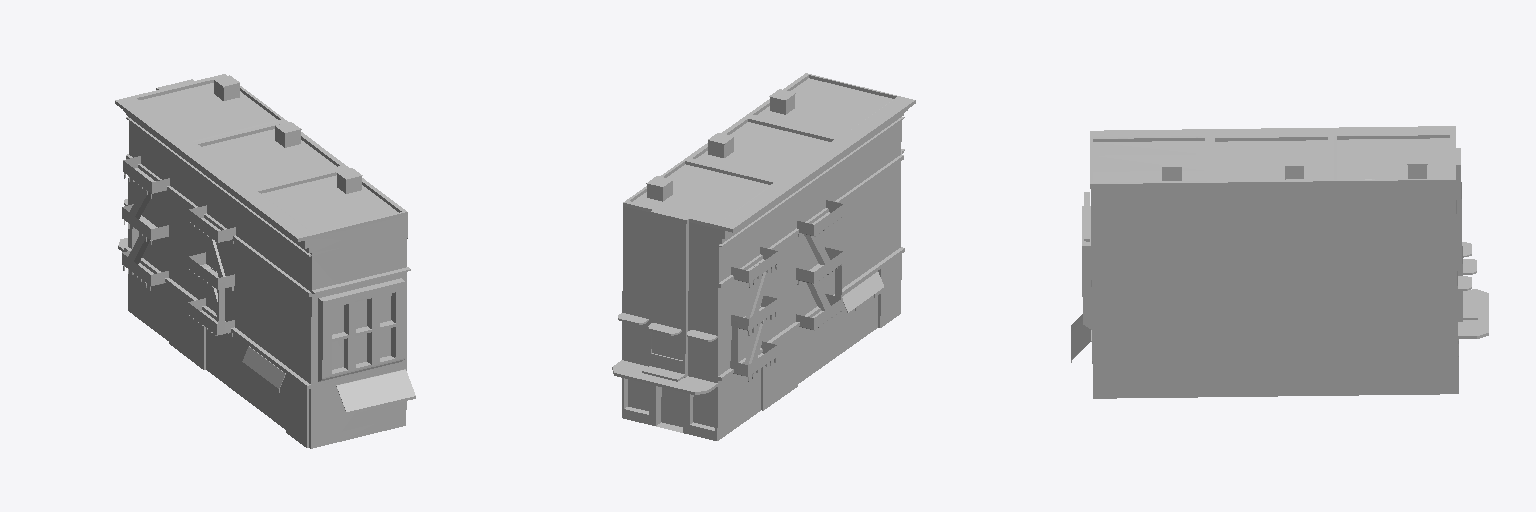
The model's file is TB1tmV2SXXXXXXmXXXXXXXXXXXX.obj.
3 renders of one model, left to right at view 1: azimuth 30°, elevation 25°; view 2: azimuth 150°, elevation 25°; view 3: azimuth 270°, elevation 25°, orthographic.
Visible parts, largest first — view 1: NY3:NY11Mtl_NY110001_GEP, NY3:NY11Mtl_NY110002_GEP, NY3:NY11Mtl_NY110003_GEP, NY3:NY11Mtl_NY110004_GEP; view 2: NY3:NY11Mtl_NY110001_GEP, NY3:NY11Mtl_NY110003_GEP, NY3:NY11Mtl_NY110002_GEP, NY3:NY11Mtl_NY110004_GEP; view 3: NY3:NY11Mtl_NY110001_GEP, NY3:NY11Mtl_NY110004_GEP.
Part boxes in pixels (x1,y1,x2,y2): NY3:NY11Mtl_NY110001_GEP: (115, 74, 410, 448); NY3:NY11Mtl_NY110002_GEP: (188, 205, 235, 336); NY3:NY11Mtl_NY110003_GEP: (122, 156, 169, 290); NY3:NY11Mtl_NY110004_GEP: (242, 346, 415, 411); NY3:NY11Mtl_NY110001_GEP: (612, 73, 915, 440); NY3:NY11Mtl_NY110003_GEP: (730, 247, 777, 381); NY3:NY11Mtl_NY110002_GEP: (796, 200, 842, 330); NY3:NY11Mtl_NY110004_GEP: (842, 272, 884, 312); NY3:NY11Mtl_NY110001_GEP: (1082, 126, 1488, 398); NY3:NY11Mtl_NY110004_GEP: (1071, 314, 1091, 362).
Size of the model in its own units: 2056 by 3961 by 6519.